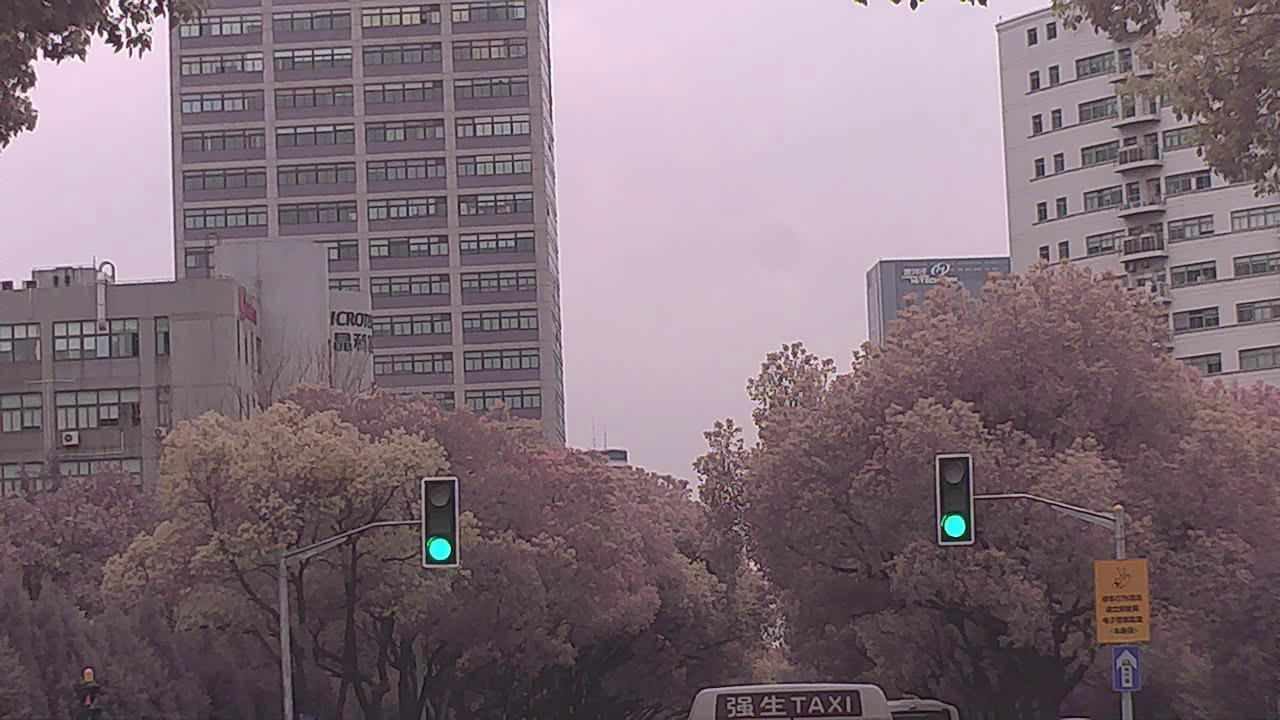traffic_light: (422, 475, 459, 564), (935, 453, 970, 545)
